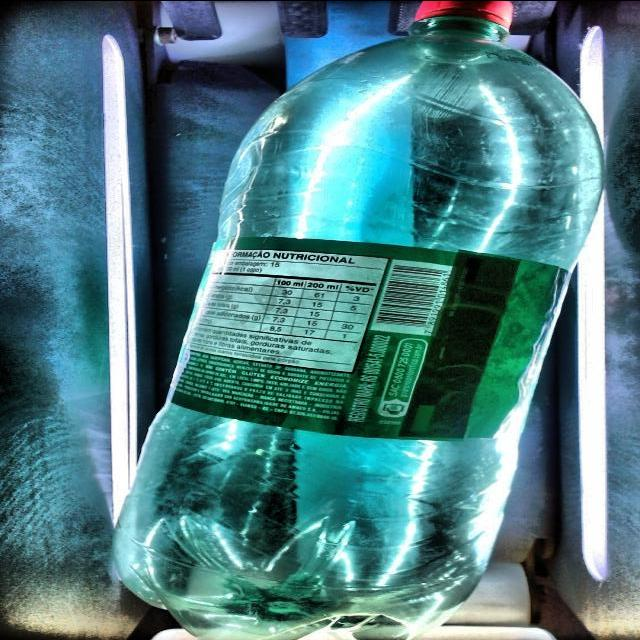bottom: (94, 488, 484, 640)
cap: (394, 0, 541, 44)
code: (371, 247, 460, 348)
